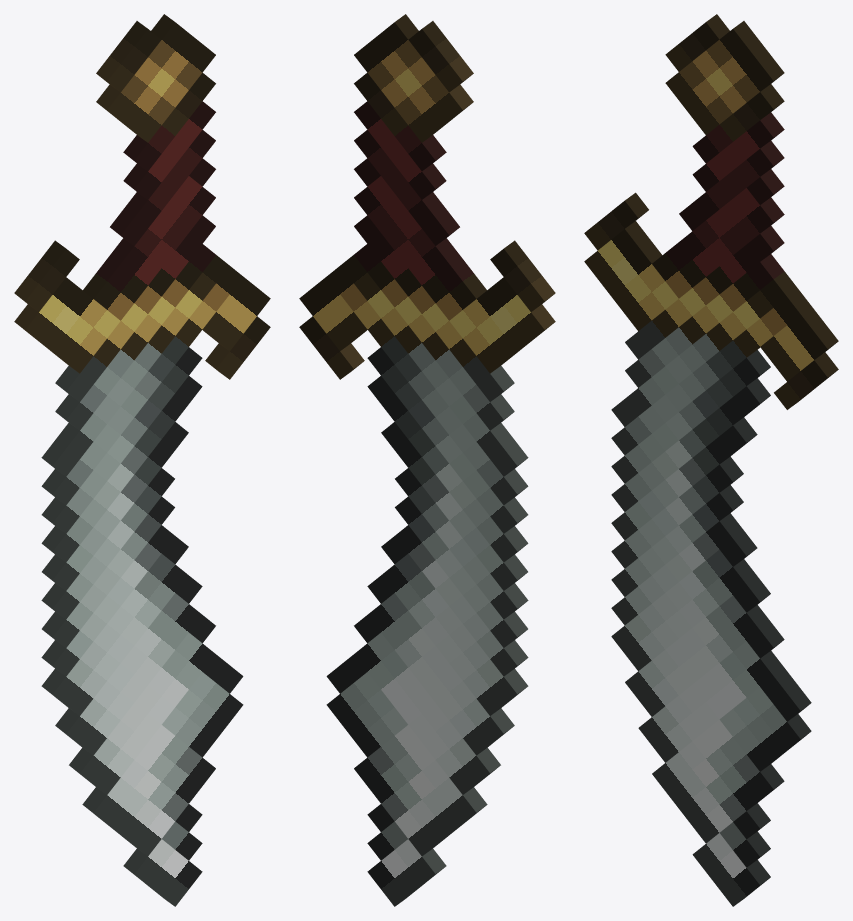
Rendered from SM_Cutlass.fbx.
The picture shows the model from 3 angles, left to right: view 1: azimuth 30°, elevation 25°; view 2: azimuth 150°, elevation 25°; view 3: azimuth 330°, elevation 25°; orthographic projection.
Parts seen in each view (by area): view 1: T_Cutlass_0; view 2: T_Cutlass_0; view 3: T_Cutlass_0.
Part boxes in pixels (x1,y1,x2,y2): T_Cutlass_0: (14, 14, 270, 906); T_Cutlass_0: (299, 14, 555, 906); T_Cutlass_0: (584, 14, 838, 906).
Size of the model in its own units: 39.77 by 137 by 3.13.
1 material, 1 textured.
